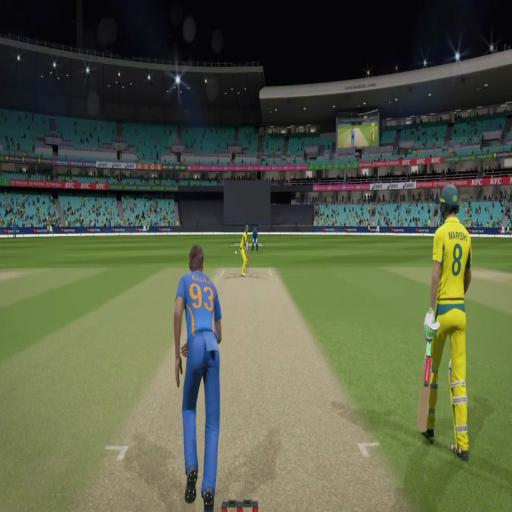ball: (234, 250, 237, 254)
